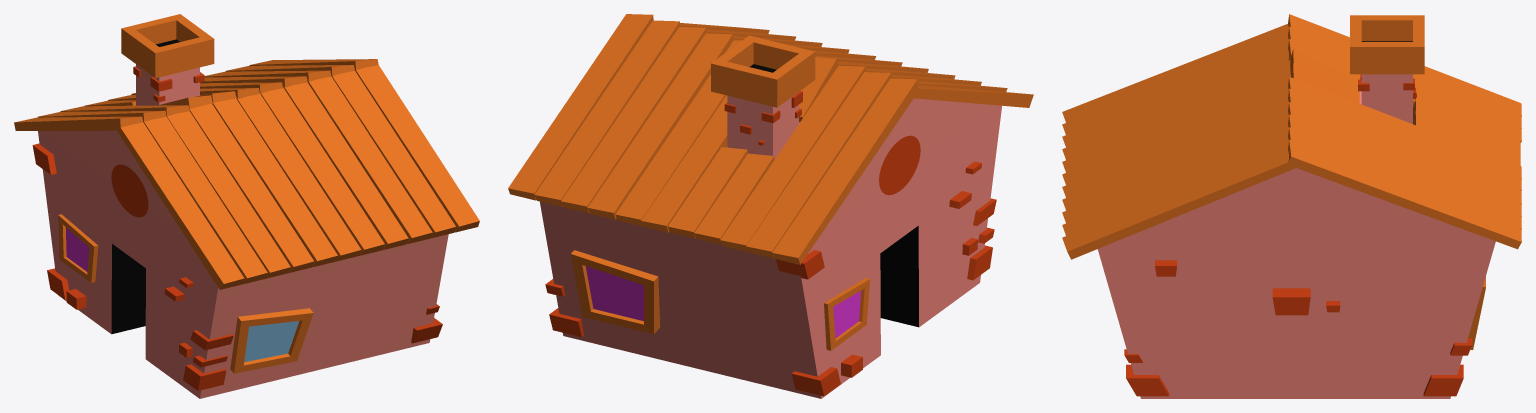
Rendered from Casacafetemporal.fbx.
3 views of the same model, side by side, from view 1: azimuth 30°, elevation 25°; view 2: azimuth 150°, elevation 25°; view 3: azimuth 270°, elevation 25° (orthographic). The views are drawn at different scales.
Parts seen in each view (by area): view 1: Cube.062; view 2: Cube.062; view 3: Cube.062.
Part boxes in pixels (box(x1,y1,x2,y2)): Cube.062: box(14, 14, 479, 398); Cube.062: box(508, 14, 1033, 398); Cube.062: box(1062, 14, 1521, 398).
Size of the model in its own units: 1033 by 1003 by 1450.
